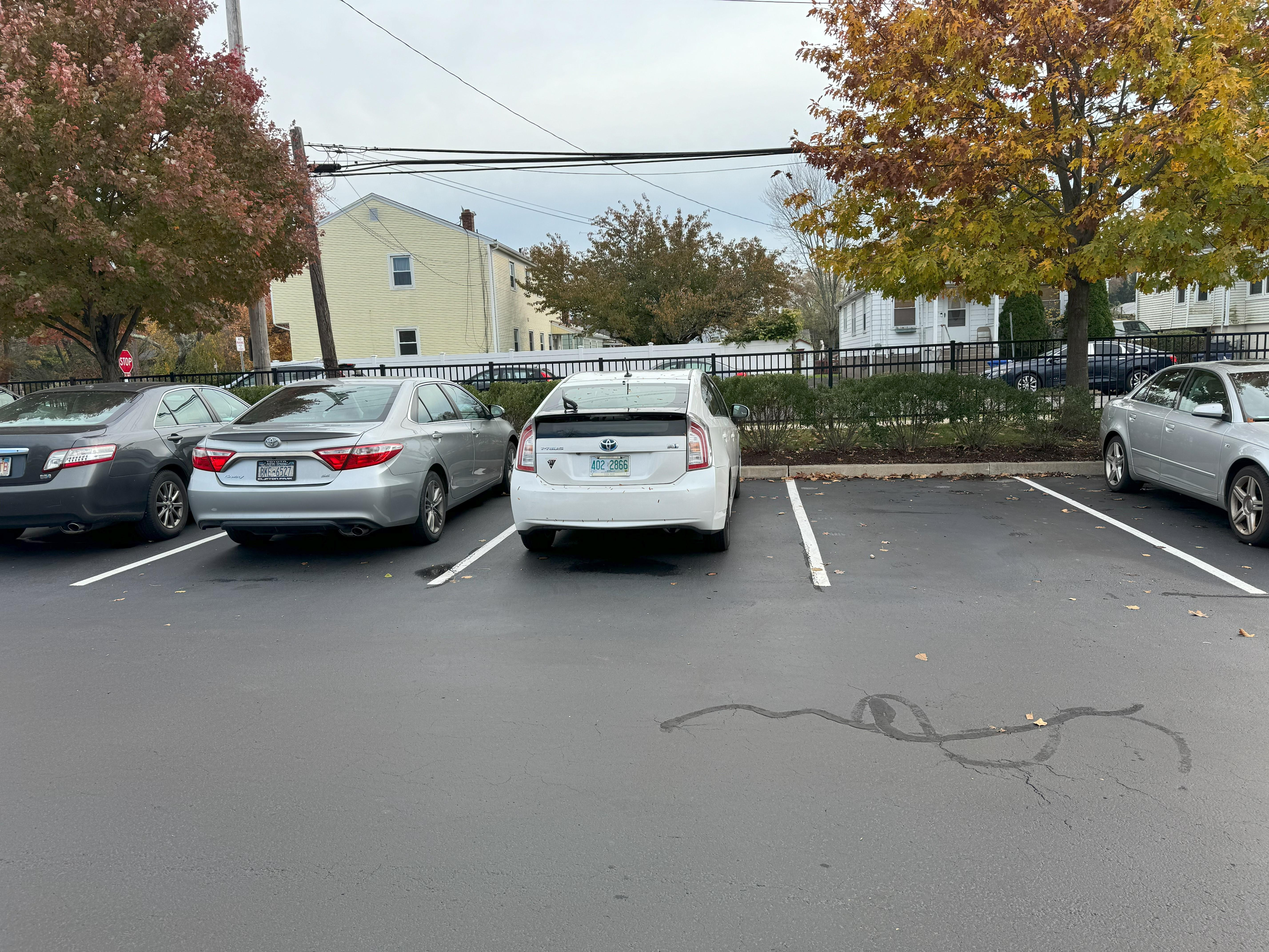empty: (807, 474, 1083, 590)
occupied: (498, 352, 786, 583), (189, 360, 491, 572), (1093, 336, 1255, 542), (9, 360, 178, 556)
